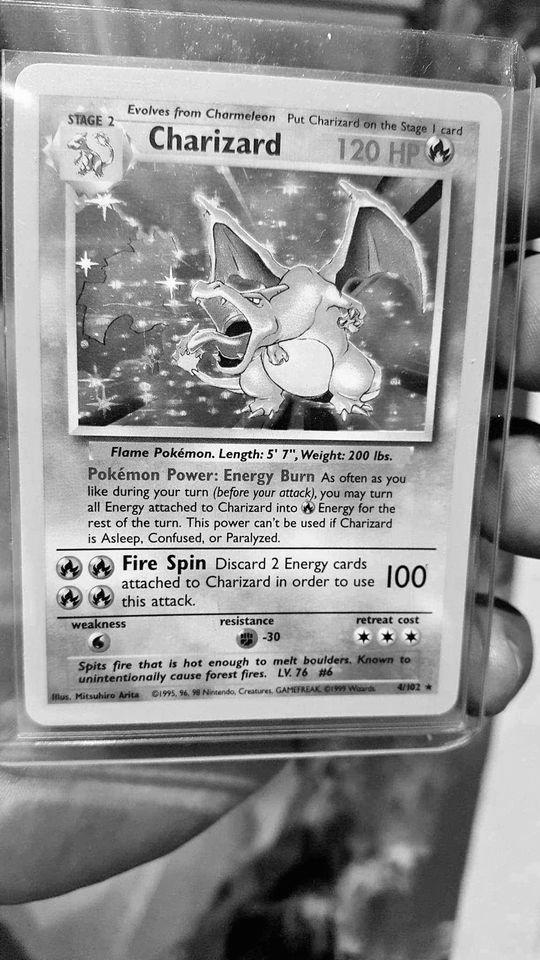card: (13, 63, 502, 727)
